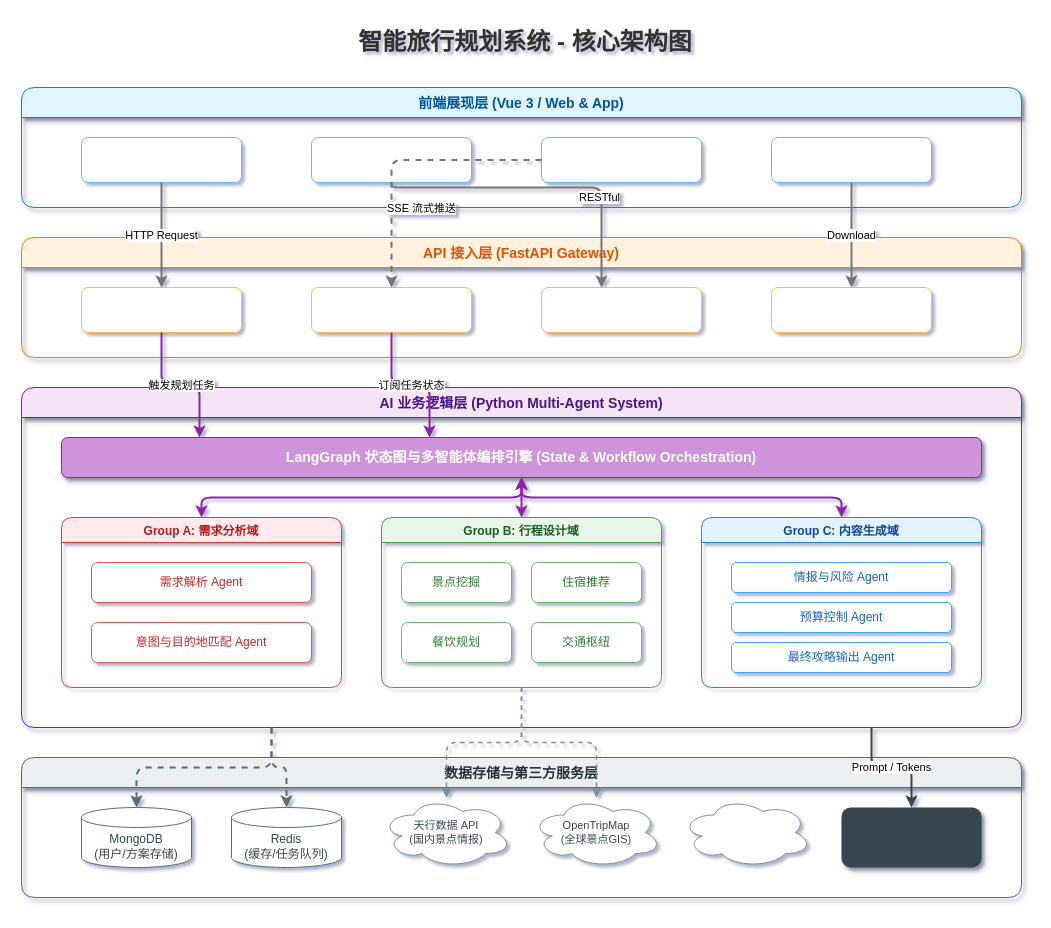
Image size: 1051x928. Some labels were removed from this diagram. The centre of each missing label's shape, as x and y in pixels:
"LLM 驱动服务 (OpenAI / DeepSeek)" goes at (912,838).
"Unsplash (高清图库 API)" goes at (746,832).
"交互式攻略生成" goes at (621,159).
"异步任务/SSE API" goes at (391,309).
"文档导出 API" goes at (851,309).
"旅行规划 API" goes at (161,309).
"用户攻略中心" goes at (851,159).
"目的地可视化" goes at (391,159).
"缓存与状态 API" goes at (621,309).
"需求收集终端" goes at (161,159).
